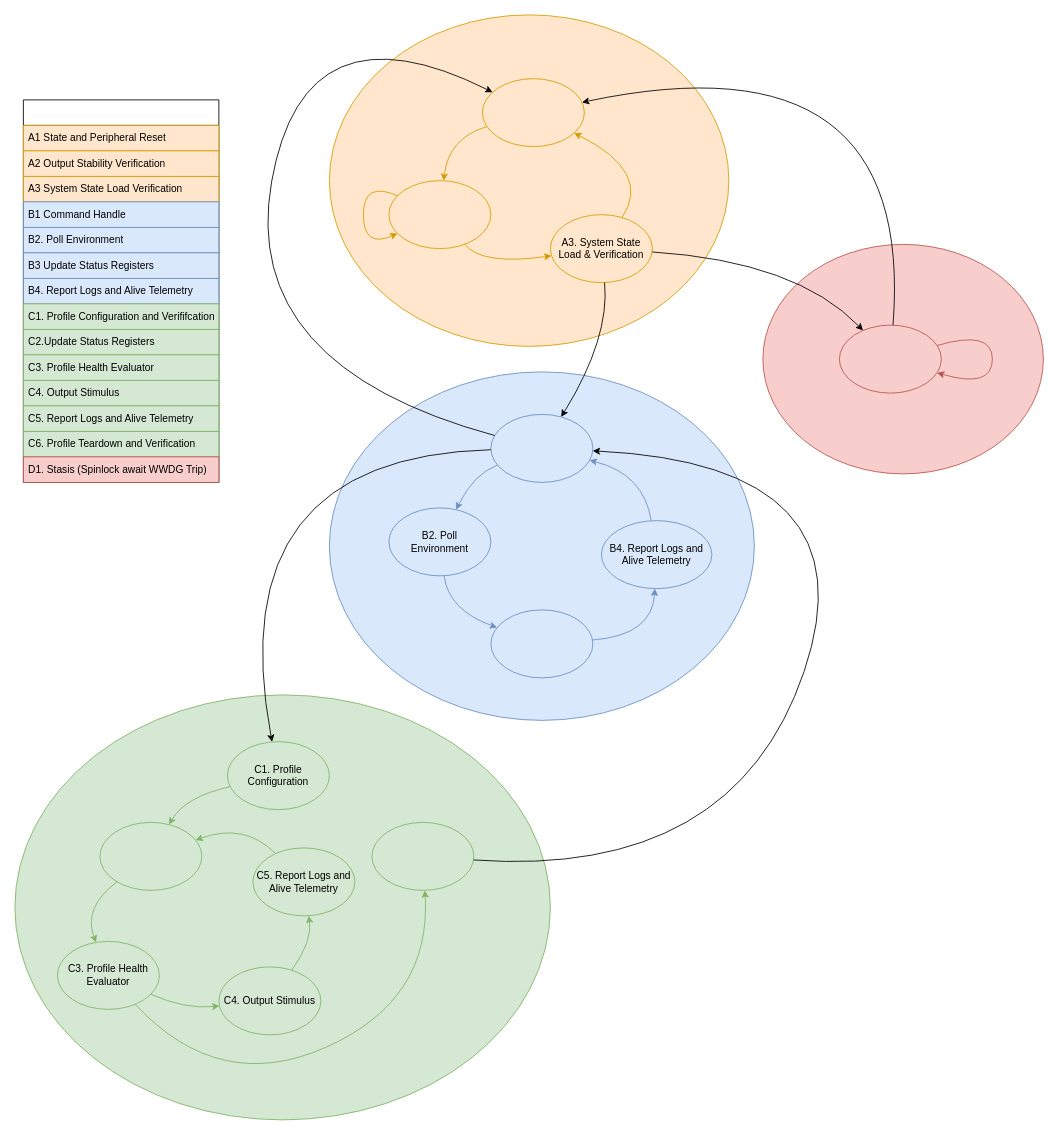
Some shapes in this 1058 by 1135 pixel diagram are drawn without their labels. Each missing label, with the box of its shape:
A1. State and Peripheral Reset: (482, 78, 584, 147)
A2. Output Stability Verification: (388, 180, 491, 249)
B1. Command Handle: (490, 414, 593, 482)
B3. Update Status Registers: (490, 609, 593, 678)
C2. Update Status Registers: (99, 822, 202, 890)
C6. Profile Teardown Verification: (371, 822, 474, 890)
D1. Stasis: (839, 324, 941, 393)
State Table: (23, 99, 219, 482)
